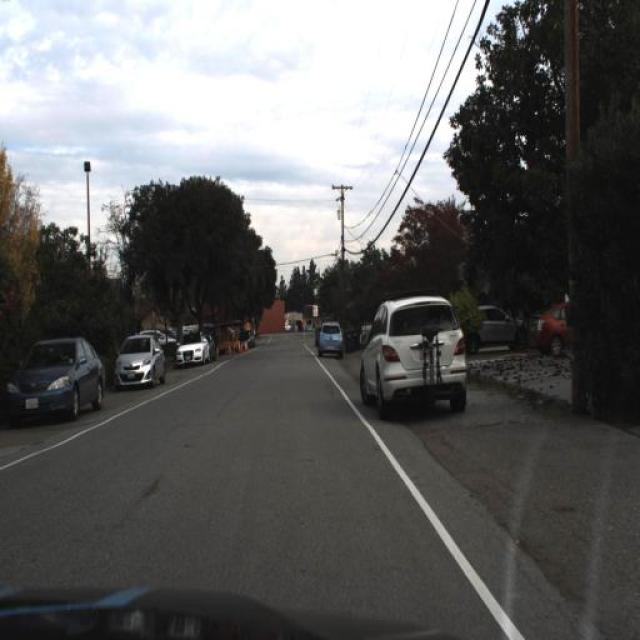car: (360, 285, 464, 420), (2, 331, 104, 421), (110, 332, 169, 391), (112, 332, 164, 398), (529, 292, 572, 358), (527, 300, 571, 362), (171, 327, 209, 368), (170, 331, 212, 368), (319, 324, 342, 356)
